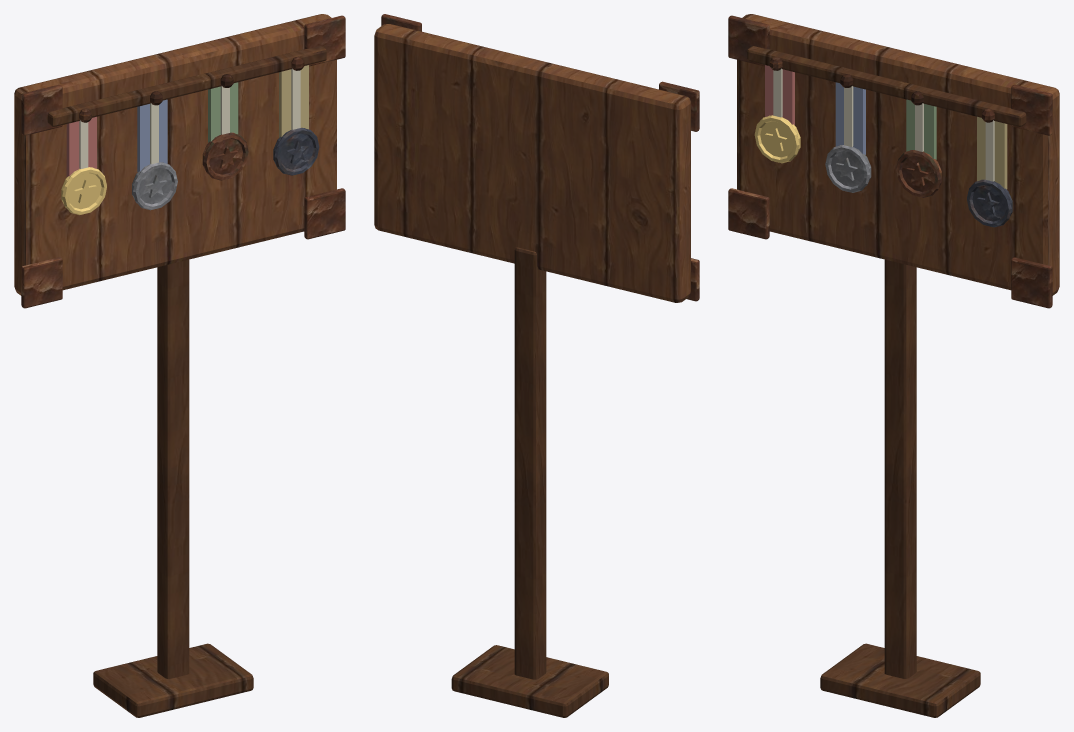
File: medal_board.glb
The picture shows the model from 3 angles, left to right: view 1: azimuth 30°, elevation 25°; view 2: azimuth 150°, elevation 25°; view 3: azimuth 330°, elevation 25°; orthographic projection.
Parts seen in each view (by area): view 1: model; view 2: model; view 3: model.
Part boxes in pixels (x1=…): model: x1=14, y1=14, x2=345, y2=717; model: x1=374, y1=14, x2=699, y2=717; model: x1=728, y1=14, x2=1059, y2=717.
Bounding box in the file's own units: 0.82 × 1.56 × 0.2.
12 materials, 6 textured.
